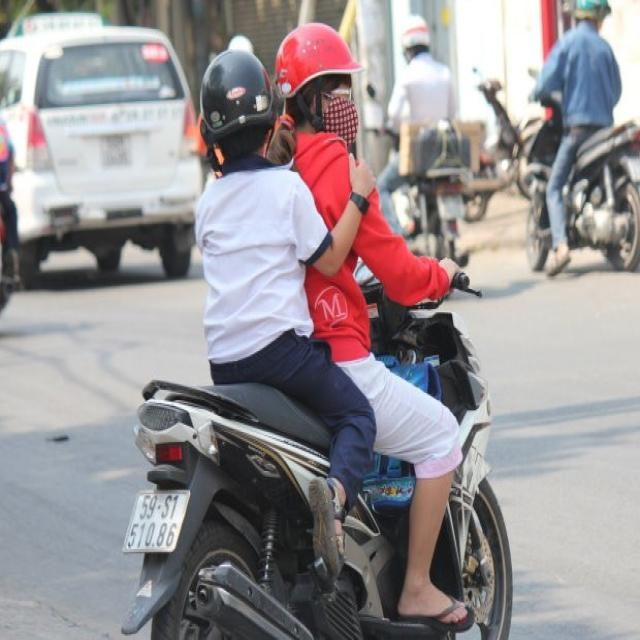1-2-helmet: (200, 48, 277, 141), (275, 22, 367, 98)
